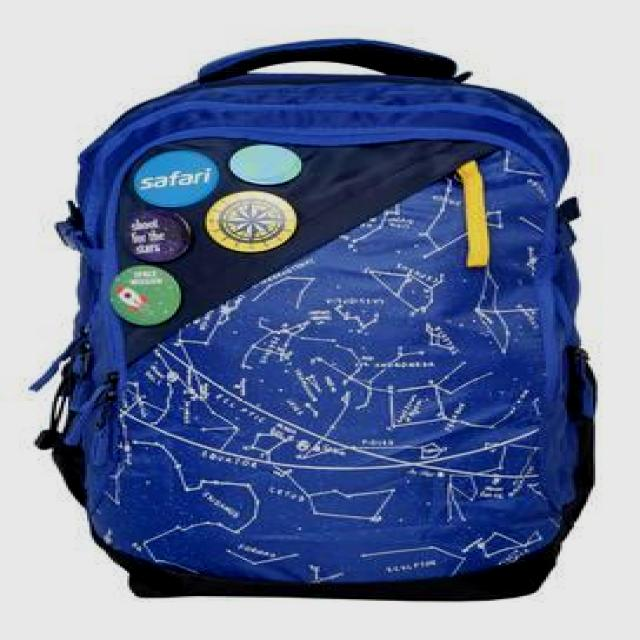backpack: (29, 38, 599, 602)
